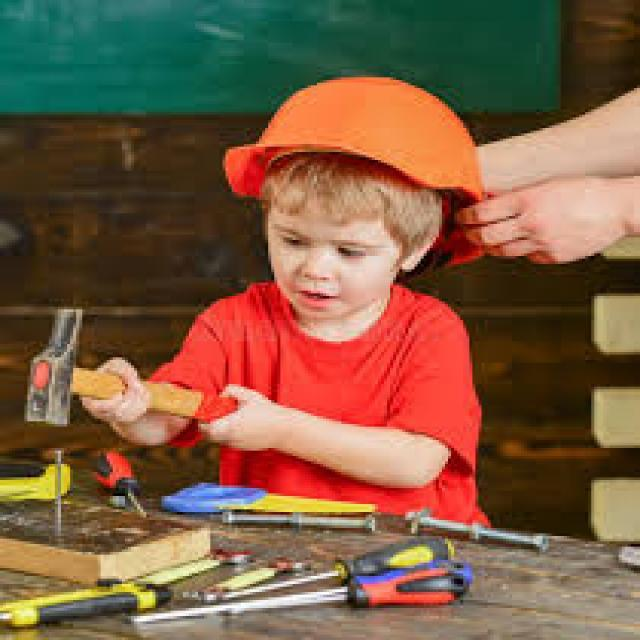hammer: (17, 300, 273, 447)
